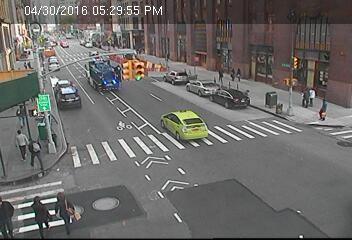neg: (1, 64, 18, 88), (32, 56, 45, 73), (3, 37, 14, 51), (19, 43, 29, 56), (129, 24, 139, 37), (13, 26, 20, 36), (32, 36, 39, 46), (20, 25, 27, 34), (142, 26, 149, 35), (5, 25, 11, 34)
pos: (52, 188, 85, 232), (24, 193, 56, 235), (22, 137, 48, 173), (6, 127, 30, 159), (318, 95, 338, 122), (215, 66, 227, 82), (228, 66, 238, 80), (234, 68, 244, 81)
